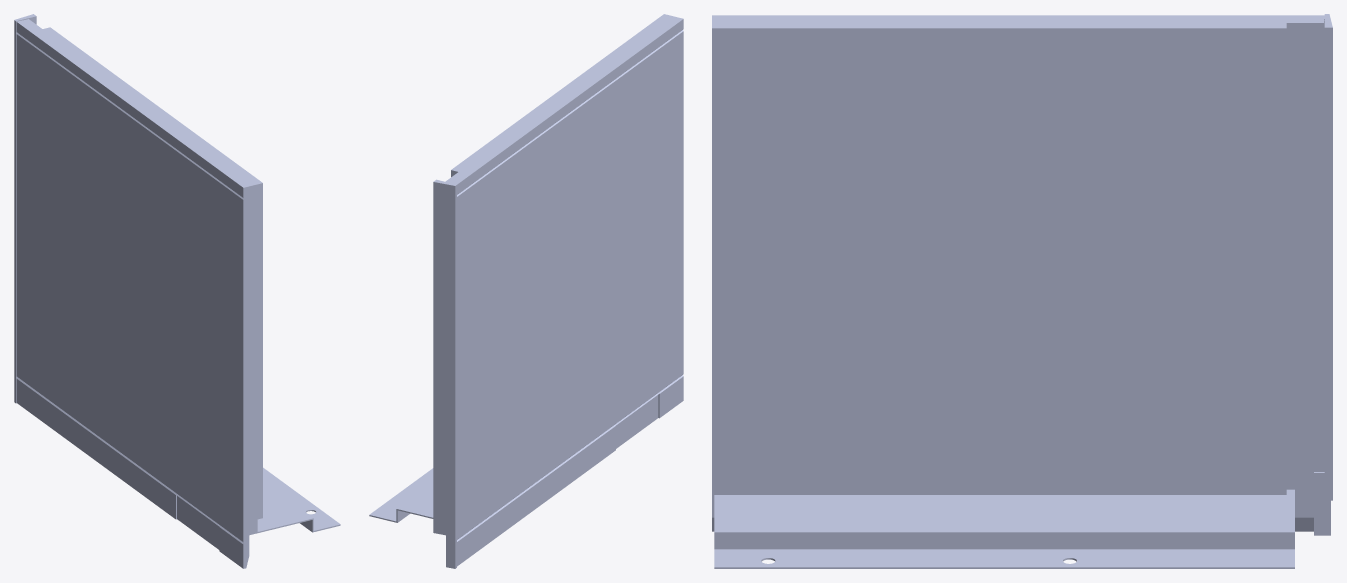
The model's file is lg-kava-F270-p.glb.
3 views of the same model, side by side, from view 1: azimuth 30°, elevation 25°; view 2: azimuth 150°, elevation 25°; view 3: azimuth 270°, elevation 25° (orthographic). The views are drawn at different scales.
Visible parts, largest first — view 1: 48535780; view 2: 48535780; view 3: 48535780.
Part boxes in pixels (x1,y1,x2,y2): 48535780: (14,14,340,568); 48535780: (369,14,683,568); 48535780: (712,14,1332,568).
Size of the model in its own units: 0.0653 by 0.2417 by 0.2635.
